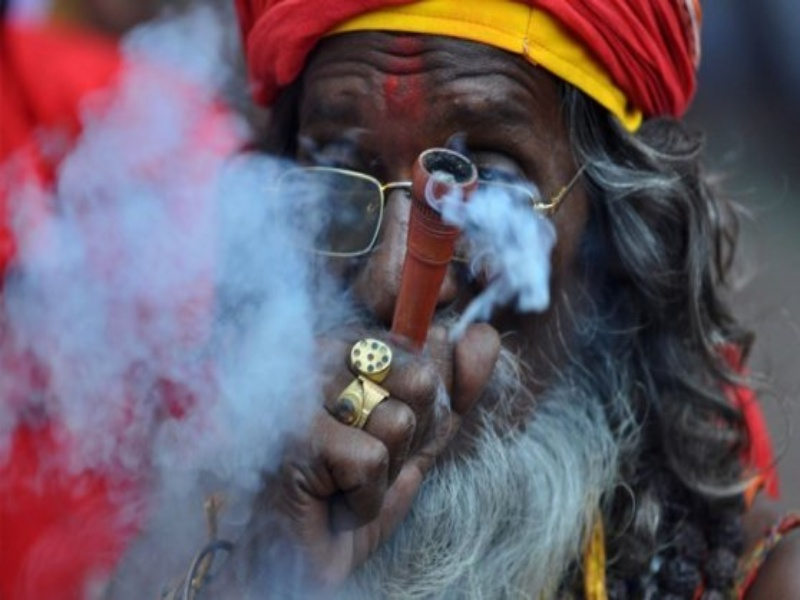smoke: (1, 14, 322, 482)
